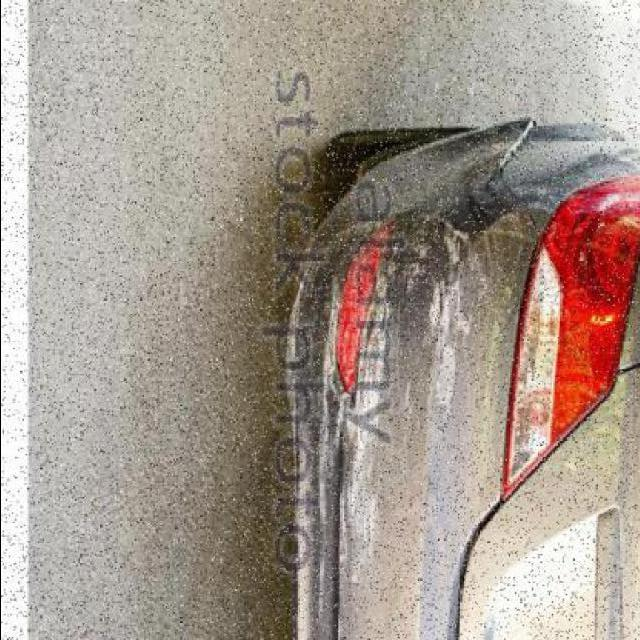rear-bumper-dent: (287, 99, 530, 639)
